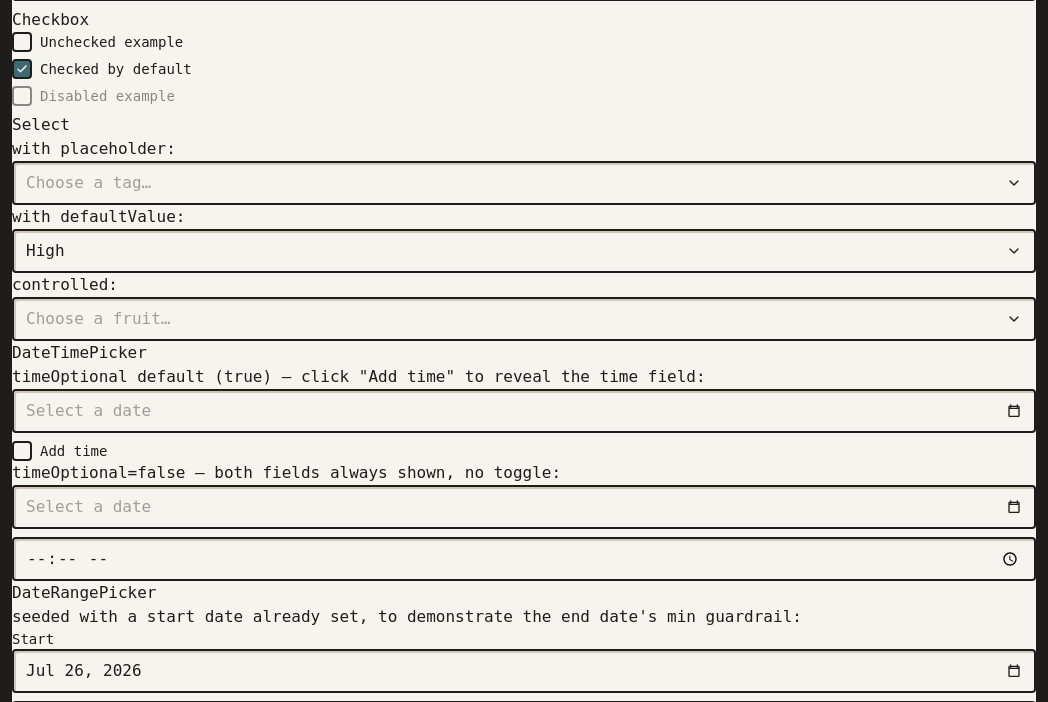
Test: UiDemoPage › shows the controlled Select demo example and is genuinely interactive
This screenshot has width=1048, height=702.
(page scrolled)
Click the button "Choose a fruit…". click: (98, 318)
box: [12, 297, 1036, 341]
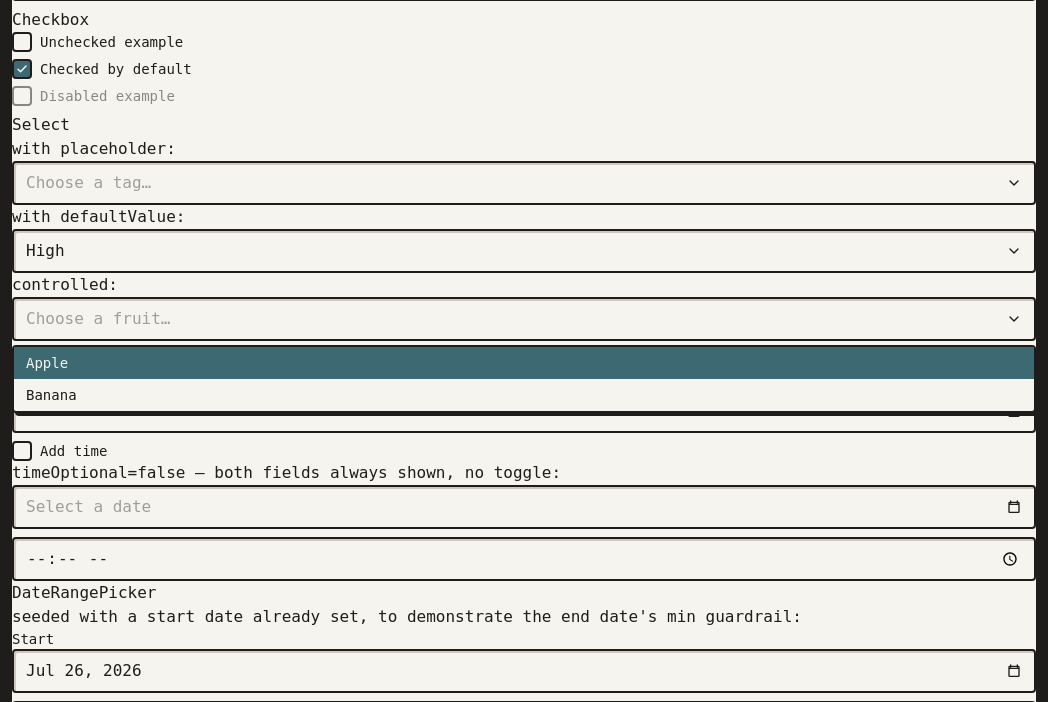
Click the option "Banana". click: (51, 395)
box: [26, 387, 77, 403]
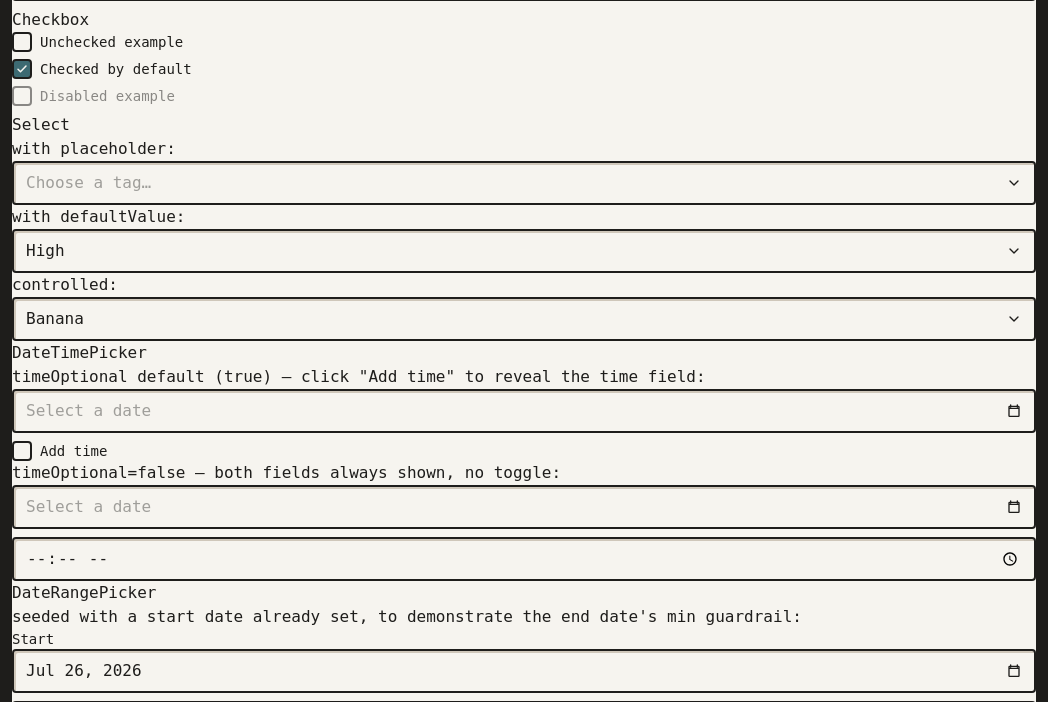
Expected: the button with aria-label "Choose a fruit" reads "Banana", [12, 297, 1036, 341]
